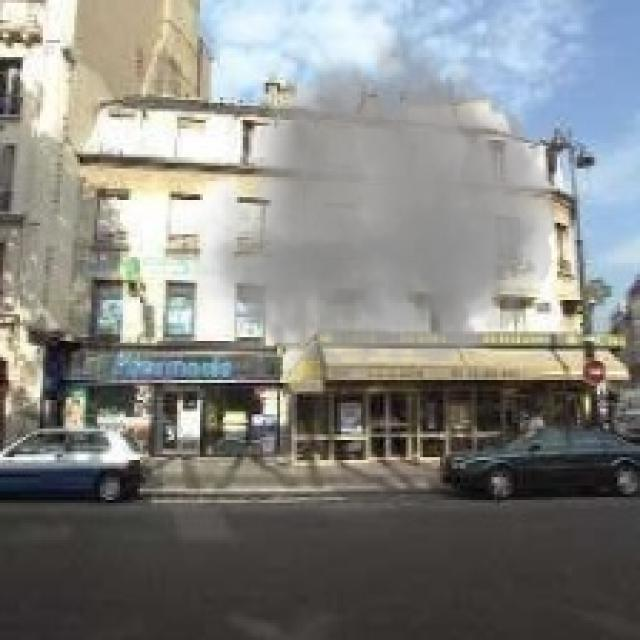Smoke: (180, 14, 566, 400)
